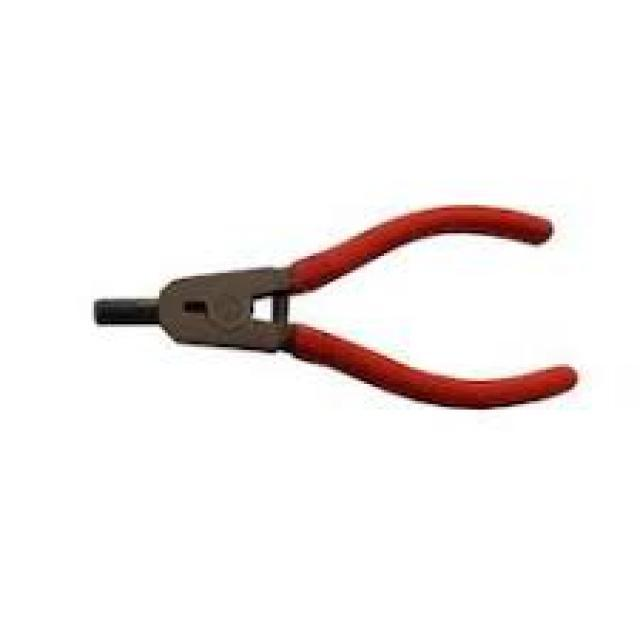pliers: (90, 196, 584, 421)
